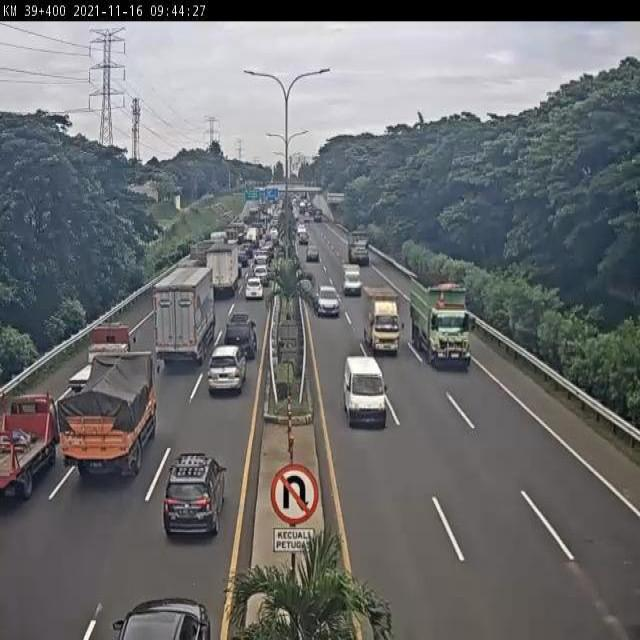car: (108, 582, 232, 640), (161, 456, 228, 541), (339, 348, 395, 437), (205, 338, 247, 402), (219, 308, 265, 361), (310, 282, 344, 322), (243, 274, 265, 302), (304, 240, 324, 265)
small truck: (0, 369, 65, 522), (62, 320, 141, 397), (361, 287, 404, 360), (338, 260, 365, 299)
truck-l-: (153, 265, 218, 371), (410, 277, 480, 371), (345, 227, 373, 268)
truck-m-: (53, 346, 160, 486), (204, 240, 245, 303)
